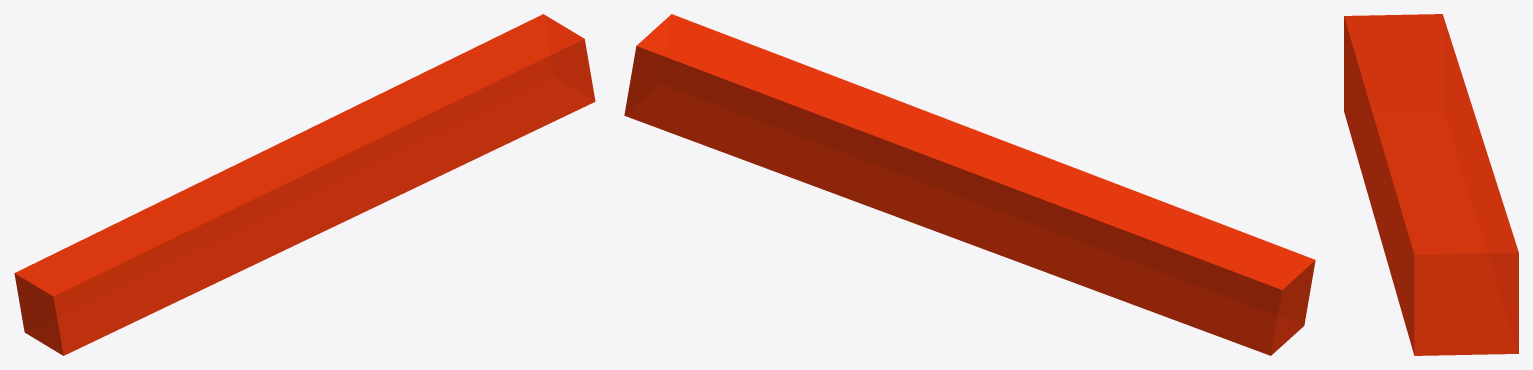
The model's file is Event_421115418_EErechit_67.fbx.
The picture shows the model from 3 angles, left to right: view 1: azimuth 30°, elevation 25°; view 2: azimuth 150°, elevation 25°; view 3: azimuth 270°, elevation 25°; orthographic projection. The views are drawn at different scales.
Parts seen in each view (by area): view 1: Model; view 2: Model; view 3: Model.
Boxes of the visible parts, bbox=[...] form: Model: bbox=[14, 14, 595, 355]; Model: bbox=[624, 14, 1315, 355]; Model: bbox=[1344, 14, 1518, 355].
Bounding box in the file's own units: 0.6906 × 0.1927 × 0.1282.
